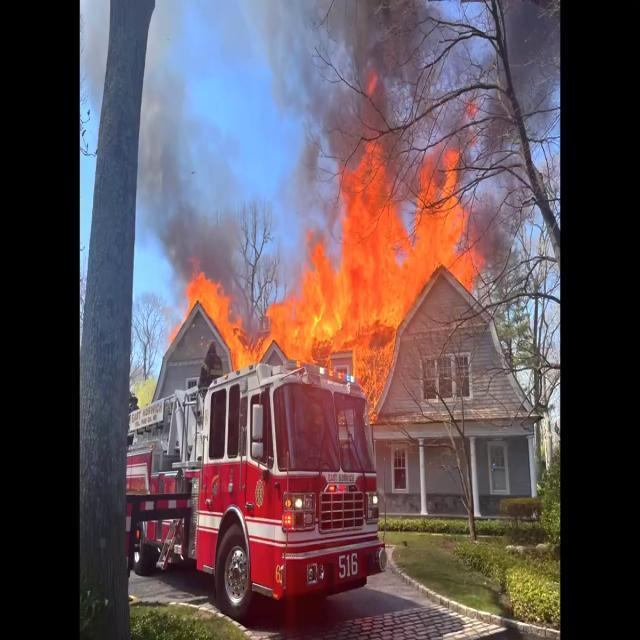Fire: (280, 134, 477, 382), (176, 258, 271, 374)
Smoke: (253, 0, 477, 138), (130, 40, 238, 268)
